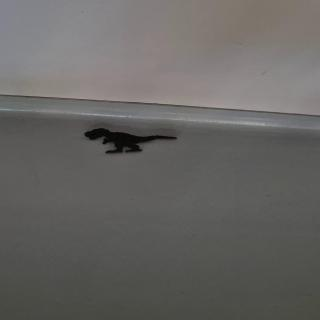dino: (84, 128, 178, 154)
